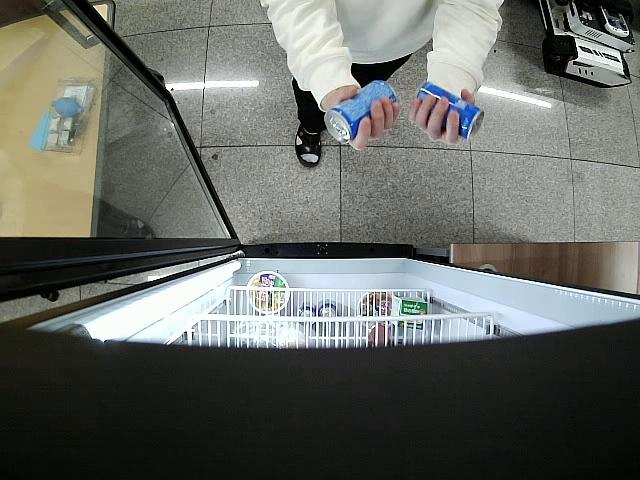00_hand: (322, 84, 401, 151), (408, 88, 476, 146)
15_letsbe: (325, 81, 400, 144), (417, 82, 484, 142)
